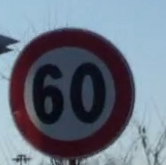limite 60: (8, 19, 138, 161)
